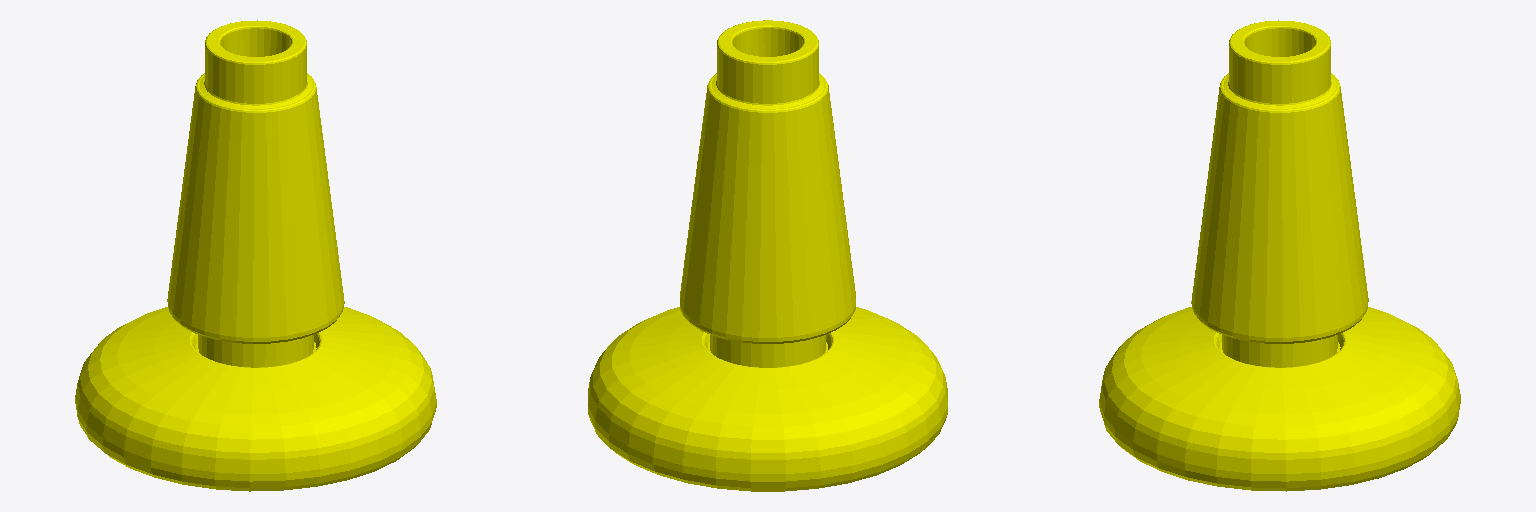
The robot description file, URDF, robot "corn":
<?xml version="1.0"?>
<robot name="corn">
  <link name="base">
   <contact>
      <lateral_friction value="1.0"/>
      <rolling_friction value="0.0"/>
      <contact_cfm value="0.0"/>
      <contact_erp value="1.0"/>
    </contact>
    <inertial>
      <origin rpy="0 0 0" xyz="0 0 0"/>
       <mass value="1.0"/>
       <inertia ixx="1" ixy="0" ixz="0" iyy="1" iyz="0" izz="1"/>
    </inertial>
    <visual>
      <geometry>
        <mesh filename="OBJ/corn.obj" scale="1 1 1"/>
      </geometry>
      <origin rpy="0 0 0" xyz="0 0 0" />
      <material name="yellow"/>
    </visual>
    <collision>
      <origin rpy="0 0 0" xyz="0 0 0"/>
      <geometry>
         <mesh filename="OBJ/corn.obj" scale="1 1 1"/>
      </geometry>
    </collision>
  </link>

<material name="red"><color rgba="0.99 0 0 1"/></material>
<material name="orange"><color rgba="1 0.5 0 1"/></material>
<material name="yellow"><color rgba="0.95 0.95 0 1"/></material>
<material name="green"><color rgba="0 0.99 0 1"/></material>
<material name="skyblue"><color rgba="0.53 0.81 0.92 1"/></material>
<material name="blue"><color rgba="0 0 0.99 1"/></material>
<material name="purple"><color rgba="0.95 0 0.95 1"/></material>



</robot>

--- Facts derived from the render (not from the file) ---
Views: 3 orthographic renders of the robot side by side, from view 1: azimuth 30°, elevation 25°; view 2: azimuth 150°, elevation 25°; view 3: azimuth 270°, elevation 25°.
Robot: corn — 1 links, 0 joints (none); root link base; default pose: all joints at 0.
Links seen in each view (by area): view 1: base; view 2: base; view 3: base.
Link boxes in pixels (x1=…): base: x1=75, y1=20, x2=436, y2=491; base: x1=588, y1=20, x2=947, y2=491; base: x1=1099, y1=20, x2=1460, y2=491.
Bounding box of the posed robot: 0.0801 × 0.0801 × 0.0922 m (x, y, z).
Meshes: 1 distinct files referenced, 1 mesh visuals loaded (1 OBJ).